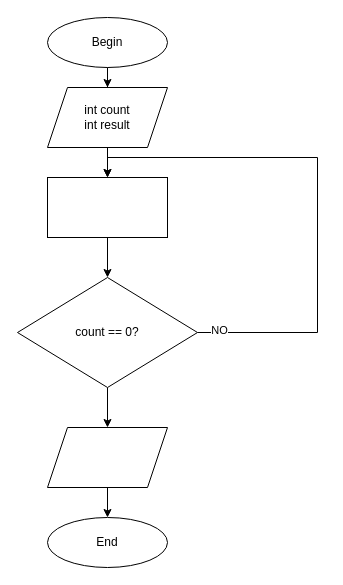
Some shapes in this 343 by 585 pixel diagram are drawn without their labels. Here are the shapes that lost their labels. From the top down, the centre of each, then its label:
(107,207): result = result * count count -=1
(107,457): print result
